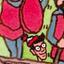waldo: (22, 33, 47, 60)
